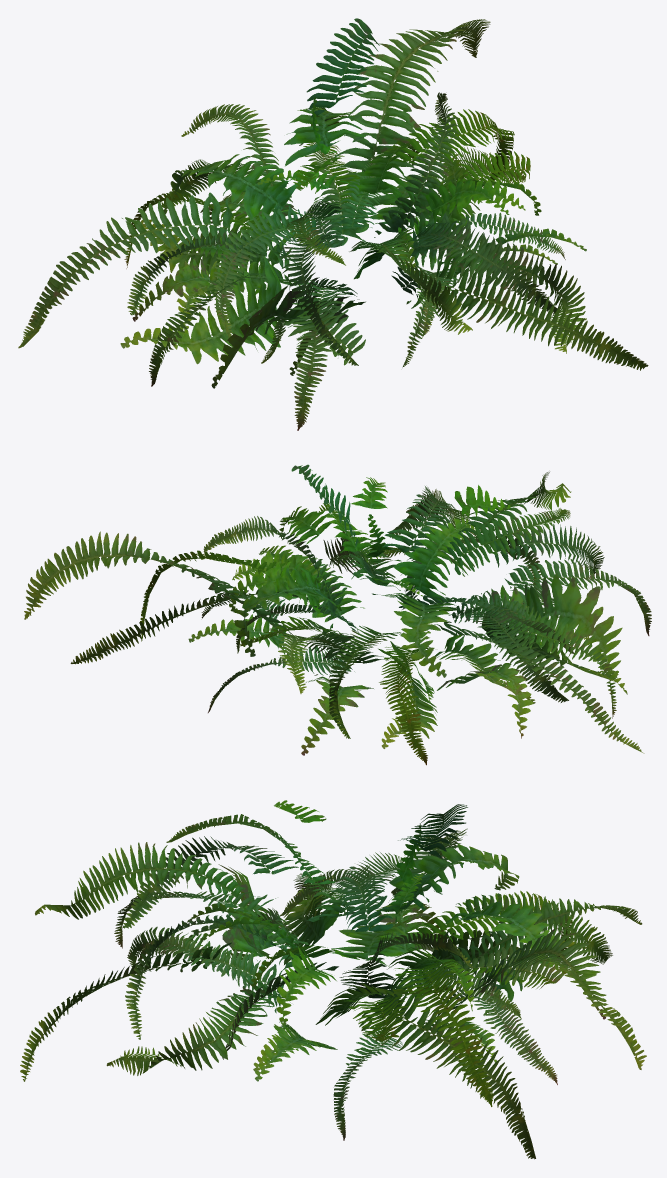
File: fern_02.gltf
3 renders of one model, top to bottom at view 1: azimuth 30°, elevation 25°; view 2: azimuth 150°, elevation 25°; view 3: azimuth 270°, elevation 25°, orthographic. The views are drawn at different scales.
Parts seen in each view (by area): view 1: fern_02_b, fern_02_c, fern_02_a, fern_02_d; view 2: fern_02_b, fern_02_c, fern_02_d, fern_02_a; view 3: fern_02_b, fern_02_c, fern_02_a, fern_02_d.
Boxes of the visible parts, bbox=[...] form: fern_02_b: bbox=[18, 18, 648, 430]; fern_02_c: bbox=[120, 96, 586, 375]; fern_02_a: bbox=[176, 92, 544, 337]; fern_02_d: bbox=[141, 142, 557, 363]; fern_02_b: bbox=[24, 464, 651, 755]; fern_02_c: bbox=[70, 486, 627, 765]; fern_02_d: bbox=[232, 516, 589, 748]; fern_02_a: bbox=[203, 516, 535, 712]; fern_02_b: bbox=[20, 800, 646, 1140]; fern_02_c: bbox=[106, 814, 642, 1159]; fern_02_a: bbox=[139, 872, 567, 1084]; fern_02_d: bbox=[187, 865, 593, 1071].
Bounding box in the file's own units: 0.9897 × 0.4277 × 0.8937.
Materials: 1 (1 with a texture image).
